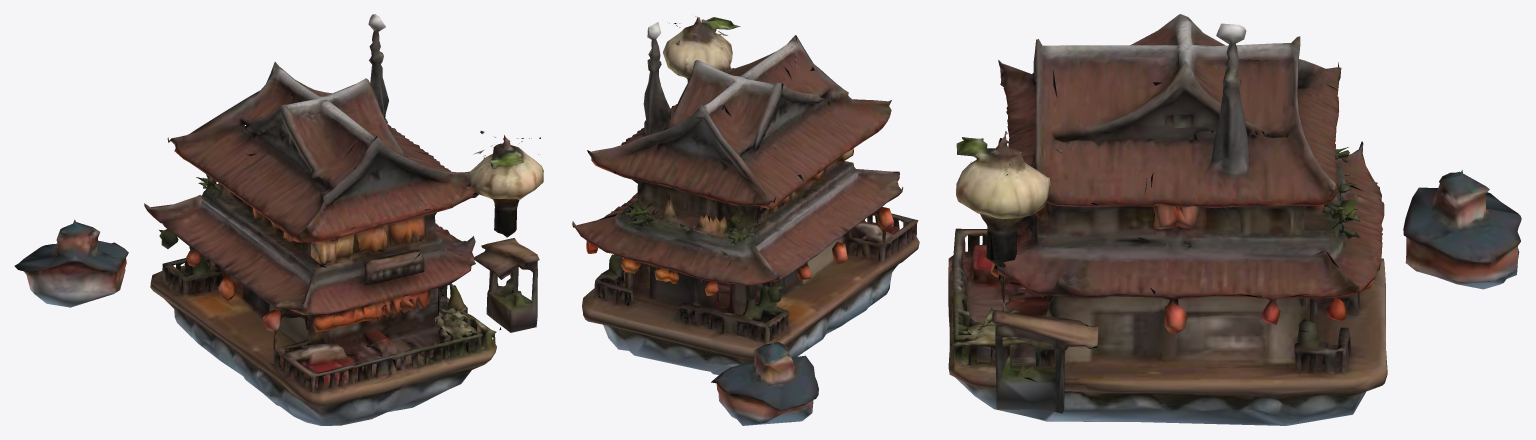
Rendered from bq_tavern.bk.glb.
3 views of the same model, side by side, from view 1: azimuth 30°, elevation 25°; view 2: azimuth 150°, elevation 25°; view 3: azimuth 270°, elevation 25° (orthographic). The views are drawn at different scales.
Parts seen in each view (by area): view 1: lo; view 2: lo; view 3: lo.
Part boxes in pixels (<box>): lo: <box>14,14,543,425</box>; lo: <box>572,16,919,425</box>; lo: <box>948,14,1521,425</box>.
Bounding box in the file's own units: 1.83 × 1.58 × 1.98.
1 material, 1 textured.
